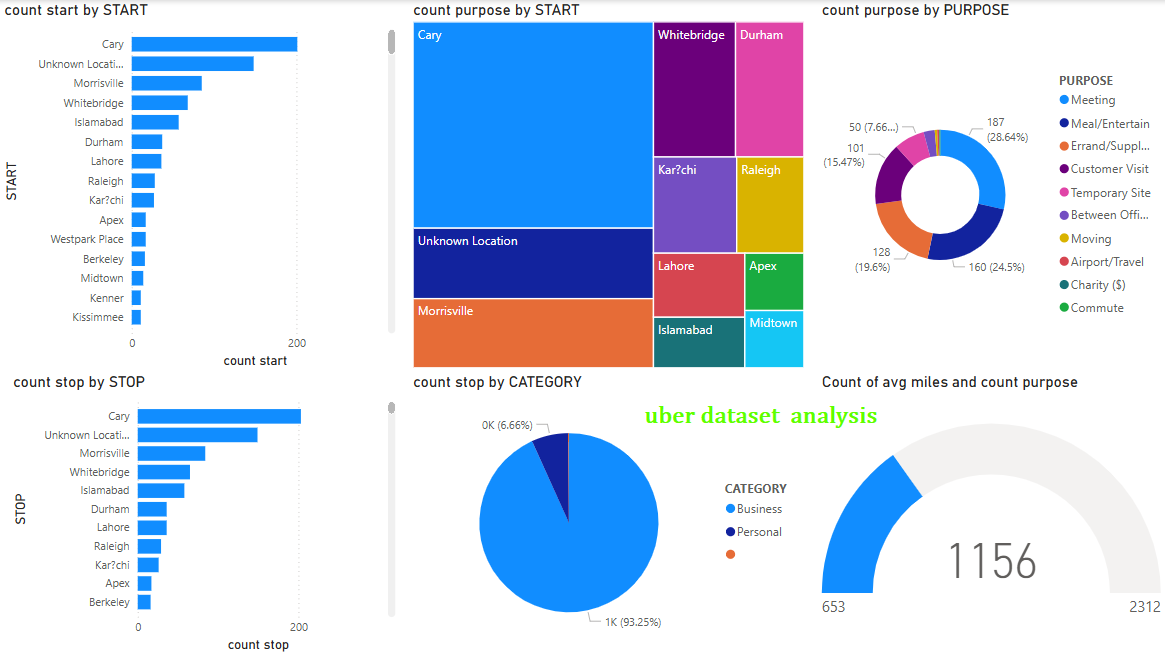

The dashboard page shown, as its layout file describes it:
{"tool":"powerbi","page":{"name":"Page 1","canvas":[1280,720],"ordinal":0},"visuals":[{"type":"barChart","fields":{"Category":["UberDataset.START"],"Y":["UberDataset.count start"]},"box":[0,0,439.1,408.9],"z":0},{"type":"barChart","fields":{"Y":["UberDataset.count stop"],"Category":["UberDataset.STOP"]},"box":[9.6,408.9,429.5,311.5],"z":1},{"type":"treemap","fields":{"Group":["UberDataset.START"],"Values":["UberDataset.count purpose"]},"box":[449,0,439,409],"z":2},{"type":"pieChart","fields":{"Category":["UberDataset.CATEGORY"],"Y":["UberDataset.count stop"]},"box":[449,409,439,311],"z":3},{"type":"donutChart","fields":{"Category":["UberDataset.PURPOSE"],"Y":["UberDataset.count purpose"]},"box":[898,0,382,409],"z":4},{"type":"gauge","fields":{"Y":["CountNonNull(UberDataset.avg miles)"],"MinValue":["UberDataset.count purpose"]},"box":[898,409,382,311],"z":5},{"type":"textbox","box":[684.2,436.2,300.8,58.4],"z":6}]}

Visuals, with their boxes in screenshot pixels (x1, y1, x2, y2), scaled from the page's 1280x720 canvas onto the 1165x654 screenshot:
barChart - UberDataset.START x UberDataset.count start: 0 0 400 371
barChart - UberDataset.count stop x UberDataset.STOP: 9 371 400 653
treemap - UberDataset.START x UberDataset.count purpose: 409 0 808 372
pieChart - UberDataset.CATEGORY x UberDataset.count stop: 409 372 808 653
donutChart - UberDataset.PURPOSE x UberDataset.count purpose: 817 0 1164 372
gauge - CountNonNull(UberDataset.avg miles) x UberDataset.count purpose: 817 372 1164 653
textbox: 623 396 897 449
